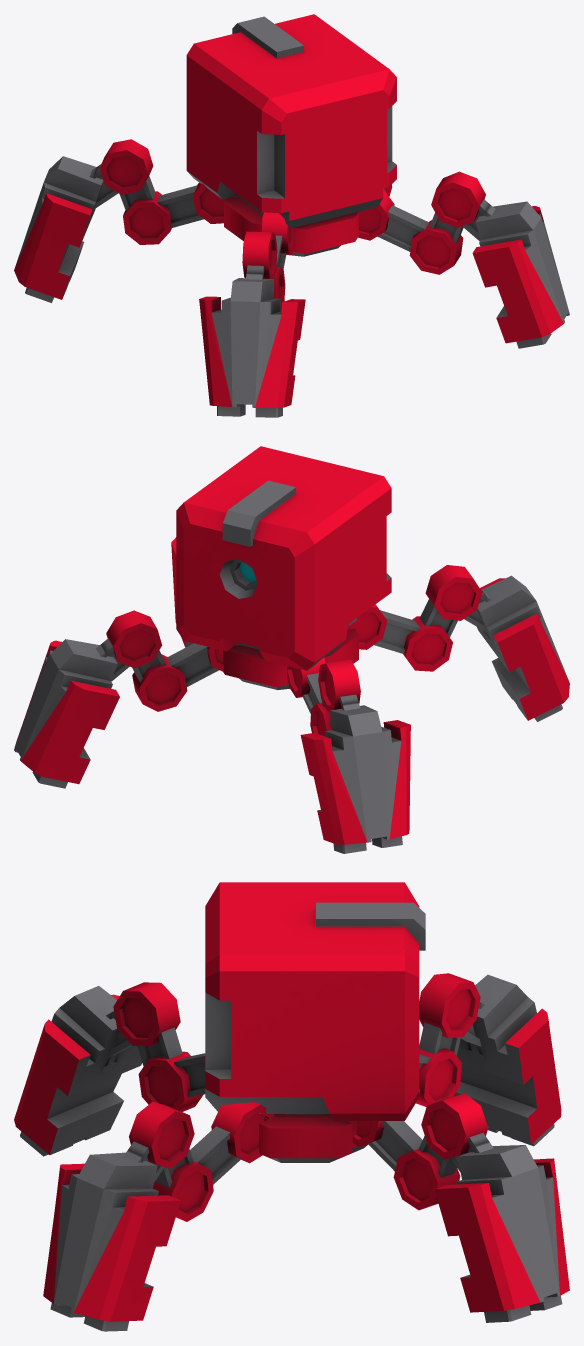
Rendered from Monster1_Idle8.obj.
3 renders of one model, top to bottom at view 1: azimuth 30°, elevation 25°; view 2: azimuth 150°, elevation 25°; view 3: azimuth 270°, elevation 25°, orthographic. The views are drawn at different scales.
Visible parts, largest first — view 1: Box006, Object021, Object017, Object025, Object028, Object020, Object027, Object019, Object018, Object026, Object024, Object022; view 2: Box006, Object025, Object013, Object021, Object016, Object024, Object023, Object015, Object022, Object028, Object014, Object026 (+1 smaller); view 3: Box006, Object017, Object013, Object021, Object025, Object018, Object024, Object016, Object020, Object028, Object023, Object015 (+4 smaller).
Part boxes in pixels (left/top/right/bottom): Box006: left=186, top=14, right=396, bottom=256; Object021: left=199, top=278, right=305, bottom=417; Object017: left=472, top=201, right=569, bottom=348; Object025: left=14, top=156, right=103, bottom=302; Object028: left=89, top=139, right=153, bottom=209; Object020: left=431, top=171, right=495, bottom=241; Object027: left=119, top=176, right=171, bottom=244; Object019: left=409, top=212, right=463, bottom=274; Object018: left=358, top=189, right=429, bottom=251; Object026: left=157, top=182, right=237, bottom=228; Object024: left=242, top=231, right=277, bottom=279; Object022: left=261, top=212, right=293, bottom=268; Box006: left=176, top=446, right=391, bottom=689; Object025: left=300, top=705, right=410, bottom=853; Object013: left=14, top=639, right=119, bottom=788; Object021: left=477, top=575, right=569, bottom=721; Object016: left=96, top=610, right=162, bottom=681; Object024: left=425, top=565, right=491, bottom=632; Object023: left=403, top=599, right=457, bottom=671; Object015: left=132, top=650, right=187, bottom=711; Object022: left=348, top=604, right=420, bottom=653; Object028: left=318, top=659, right=360, bottom=711; Object014: left=166, top=643, right=239, bottom=686; Object026: left=287, top=657, right=325, bottom=713; Box006: left=205, top=882, right=425, bottom=1162; Object017: left=43, top=1152, right=180, bottom=1331; Object013: left=434, top=1145, right=569, bottom=1322; Object021: left=14, top=986, right=142, bottom=1156; Object025: left=453, top=974, right=561, bottom=1146; Object018: left=190, top=1102, right=274, bottom=1184; Object024: left=106, top=982, right=180, bottom=1057; Object016: left=421, top=1093, right=493, bottom=1172; Object020: left=123, top=1101, right=194, bottom=1182; Object028: left=419, top=973, right=484, bottom=1046; Object023: left=137, top=1027, right=203, bottom=1111; Object015: left=393, top=1136, right=460, bottom=1210.
Bounding box in the file's own units: 151 × 97.63 × 153.
